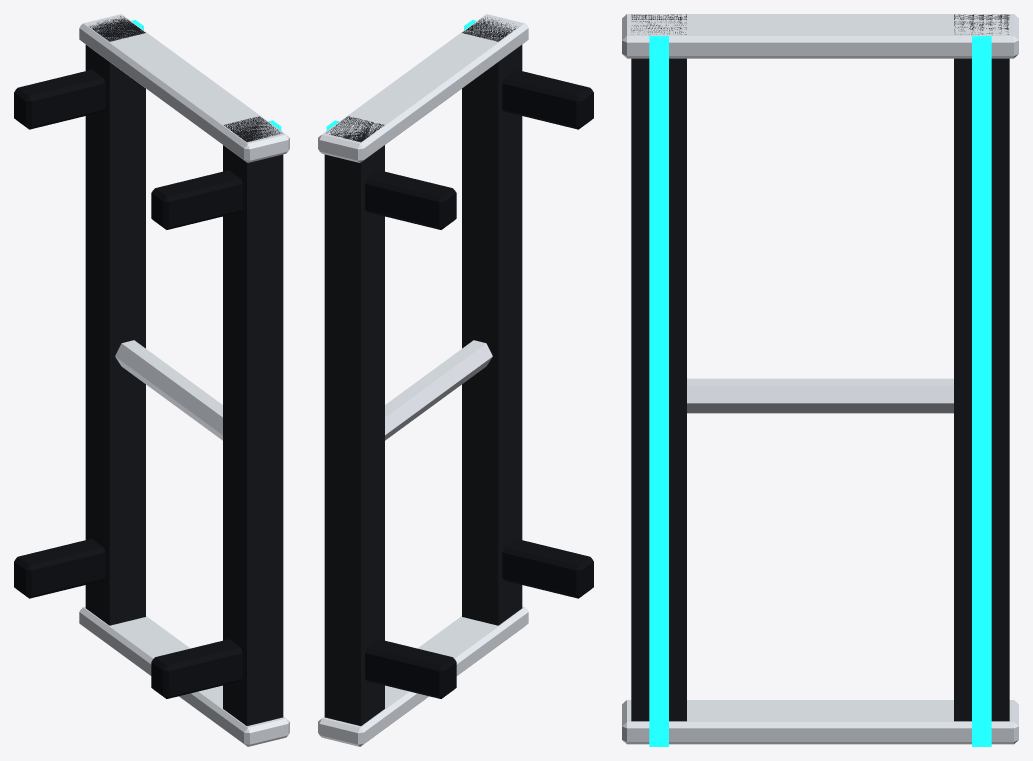
Rendered from ladder_neon.glb.
3 views of the same model, side by side, from view 1: azimuth 30°, elevation 25°; view 2: azimuth 150°, elevation 25°; view 3: azimuth 270°, elevation 25° (orthographic). The views are drawn at different scales.
Parts seen in each view (by area): view 1: ladder_neon_MID_deco_body, ladder_neon_TOP_deco_body, ladder_neon_BOT_deco_body, ladder_neon_TOP_chrome, ladder_neon_BOT_deco_trim, ladder_neon_TOP_deco_trim, ladder_neon_BOT_chrome, ladder_neon_MID_chrome; view 2: ladder_neon_MID_deco_body, ladder_neon_TOP_deco_body, ladder_neon_BOT_deco_body, ladder_neon_TOP_chrome, ladder_neon_BOT_deco_trim, ladder_neon_TOP_deco_trim, ladder_neon_BOT_chrome, ladder_neon_MID_chrome; view 3: ladder_neon_MID_deco_body, ladder_neon_TOP_chrome, ladder_neon_BOT_chrome, ladder_neon_TOP_deco_body, ladder_neon_MID_deco_neon, ladder_neon_BOT_deco_body, ladder_neon_MID_chrome, ladder_neon_TOP_deco_neon, ladder_neon_BOT_deco_neon.
Part boxes in pixels (left/top/right/bottom): ladder_neon_MID_deco_body: left=85, top=197, right=283, bottom=601; ladder_neon_TOP_deco_body: left=85, top=16, right=283, bottom=314; ladder_neon_BOT_deco_body: left=85, top=484, right=283, bottom=725; ladder_neon_TOP_chrome: left=79, top=14, right=289, bottom=162; ladder_neon_BOT_deco_trim: left=14, top=538, right=242, bottom=698; ladder_neon_TOP_deco_trim: left=14, top=69, right=242, bottom=229; ladder_neon_BOT_chrome: left=79, top=606, right=289, bottom=746; ladder_neon_MID_chrome: left=115, top=340, right=222, bottom=440; ladder_neon_MID_deco_body: left=324, top=197, right=522, bottom=601; ladder_neon_TOP_deco_body: left=324, top=17, right=522, bottom=314; ladder_neon_BOT_deco_body: left=324, top=484, right=522, bottom=725; ladder_neon_TOP_chrome: left=318, top=14, right=528, bottom=162; ladder_neon_BOT_deco_trim: left=365, top=538, right=593, bottom=698; ladder_neon_TOP_deco_trim: left=365, top=69, right=593, bottom=229; ladder_neon_BOT_chrome: left=318, top=606, right=528, bottom=746; ladder_neon_MID_chrome: left=385, top=340, right=492, bottom=440; ladder_neon_MID_deco_body: left=631, top=238, right=1009, bottom=575; ladder_neon_TOP_chrome: left=622, top=14, right=1018, bottom=58; ladder_neon_BOT_chrome: left=622, top=700, right=1018, bottom=744; ladder_neon_TOP_deco_body: left=631, top=14, right=1009, bottom=237; ladder_neon_MID_deco_neon: left=649, top=241, right=991, bottom=578; ladder_neon_BOT_deco_body: left=631, top=575, right=1009, bottom=721; ladder_neon_MID_chrome: left=687, top=378, right=953, bottom=413; ladder_neon_TOP_deco_neon: left=649, top=34, right=991, bottom=240; ladder_neon_BOT_deco_neon: left=649, top=578, right=991, bottom=746.
Size of the model in its own units: 0.131 by 0.63 by 0.32.
